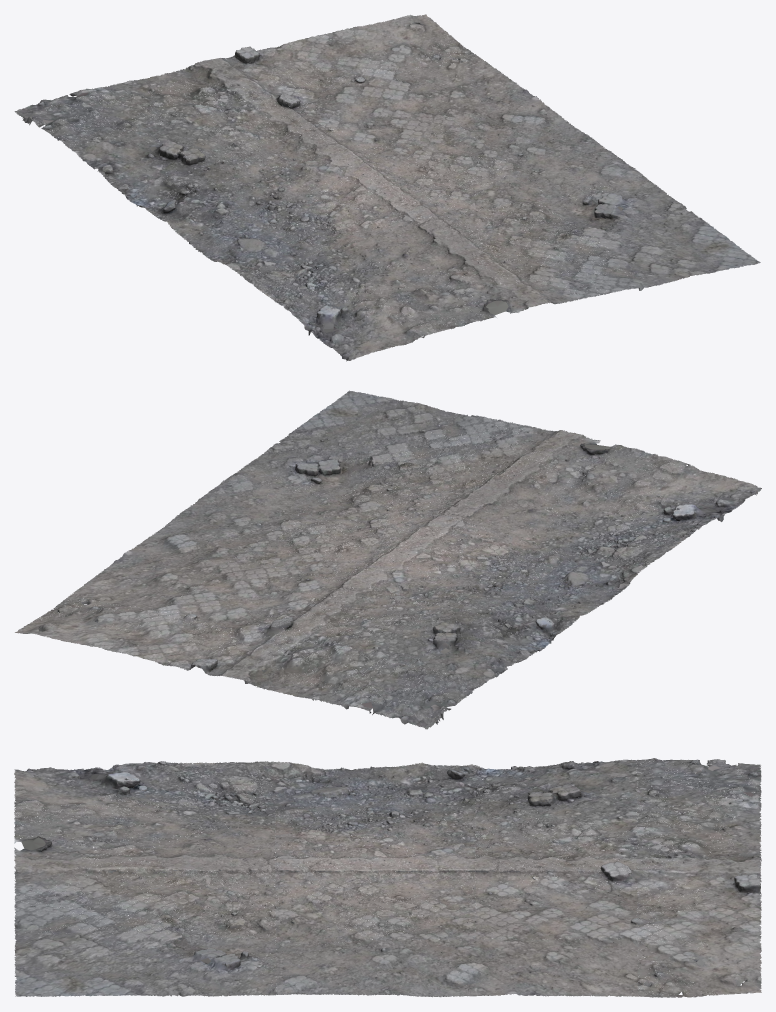
File: destroyed_ground-compressed.glb
The picture shows the model from 3 angles, top to bottom: view 1: azimuth 30°, elevation 25°; view 2: azimuth 150°, elevation 25°; view 3: azimuth 270°, elevation 25°; orthographic projection. The views are drawn at different scales.
Visible parts, largest first — view 1: Distroyed_Ground; view 2: Distroyed_Ground; view 3: Distroyed_Ground.
Part boxes in pixels (x1,y1,x2,y2): Distroyed_Ground: (14, 14, 760, 361); Distroyed_Ground: (15, 390, 761, 729); Distroyed_Ground: (14, 758, 761, 997).
Size of the model in its own units: 62.67 by 3.48 by 88.17.
1 material, 1 textured.
